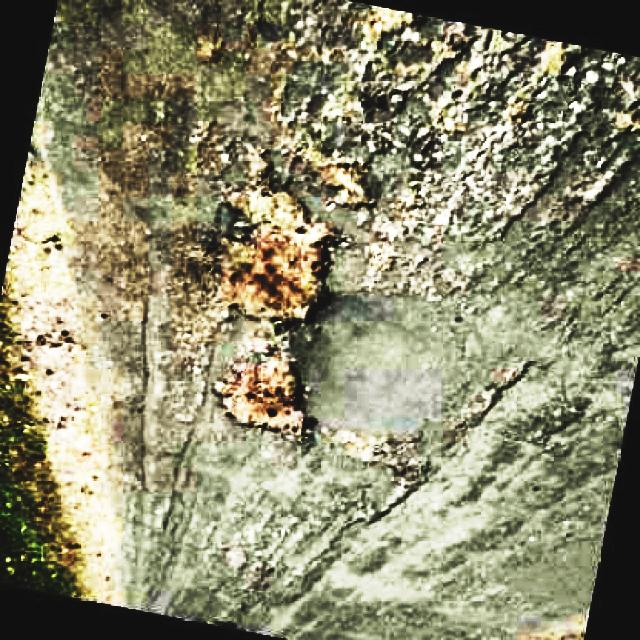pothole: (203, 180, 348, 438)
